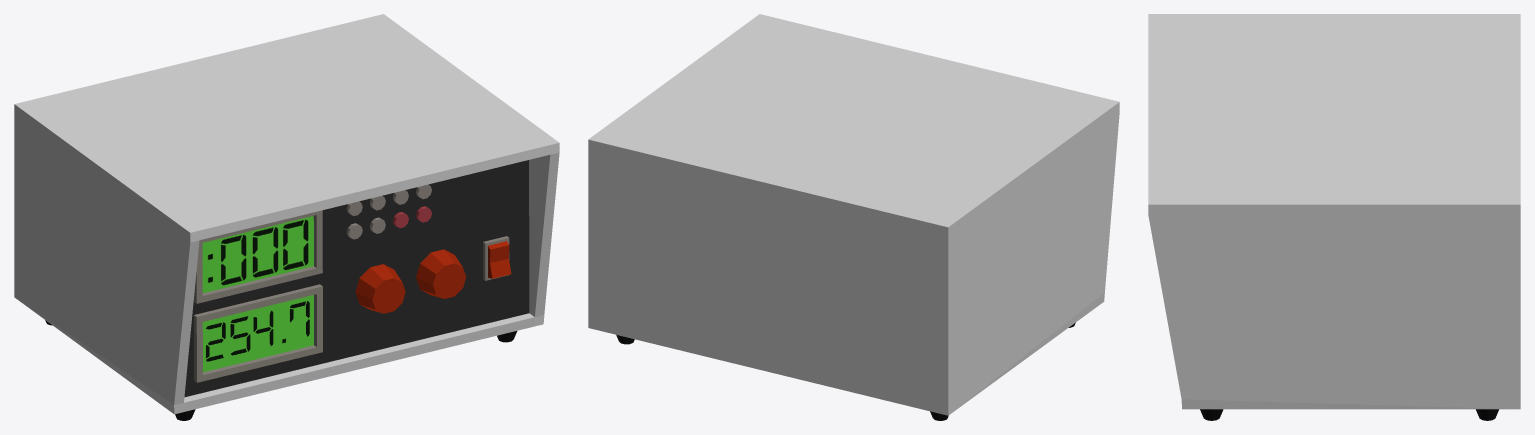
File: Lab Thing.fbx
3 renders of one model, left to right at view 1: azimuth 30°, elevation 25°; view 2: azimuth 150°, elevation 25°; view 3: azimuth 270°, elevation 25°, orthographic. The views are drawn at different scales.
Parts seen in each view (by area): view 1: Lab_thing:Device; view 2: Lab_thing:Device; view 3: Lab_thing:Device.
Boxes of the visible parts, <box> form: Lab_thing:Device: <box>14,14,559,420</box>; Lab_thing:Device: <box>588,14,1119,420</box>; Lab_thing:Device: <box>1148,14,1520,420</box>.
Bounding box in the file's own units: 0.401 × 0.22 × 0.33.
